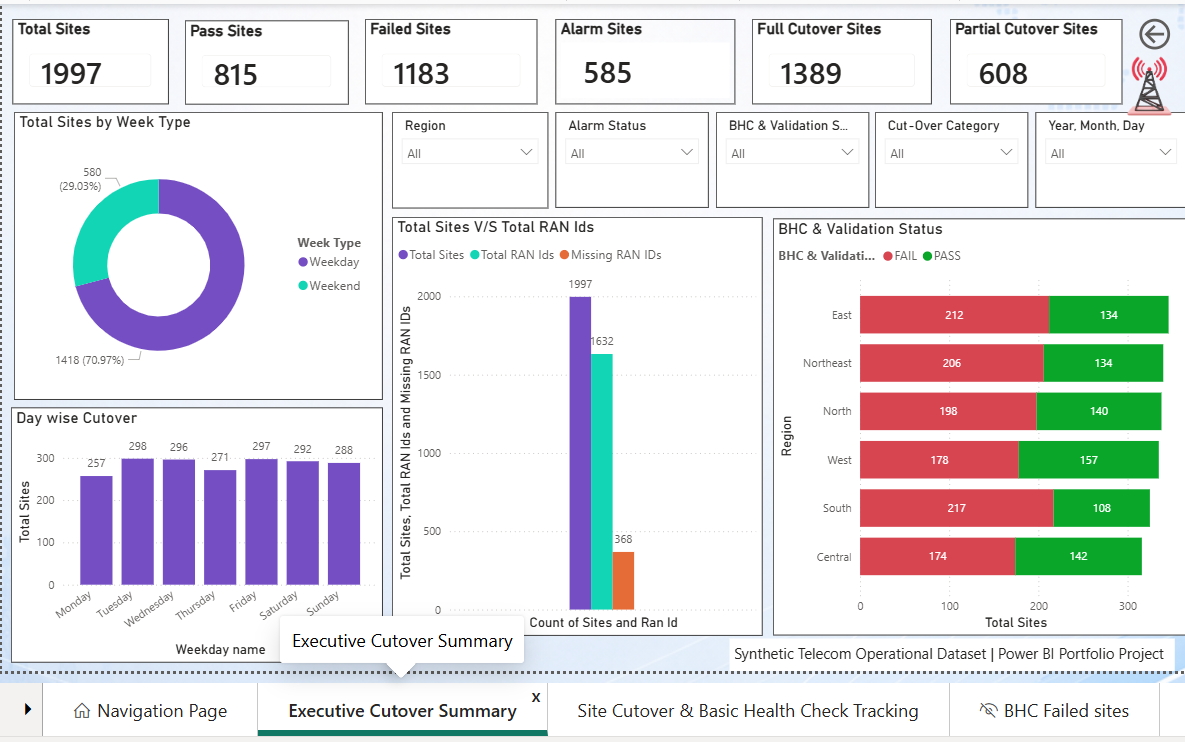

Layout of this report page (visuals, bound fields, positions):
{"tool":"powerbi","page":{"name":"Executive Cutover Summary","canvas":[1280,720],"ordinal":1},"visuals":[{"type":"cardVisual","title":"Total Sites","fields":{"Data":["All Measures.Total Sites"]},"box":[11.3,16.2,168.4,92.3],"z":0},{"type":"cardVisual","title":"Pass Sites","fields":{"Data":["All Measures.Passed sites"]},"box":[197.5,17.8,176.5,90.7],"z":1000},{"type":"cardVisual","title":"Failed Sites","fields":{"Data":["All Measures.Failed Sites"]},"box":[391.9,16.2,186.2,92.3],"z":2000},{"type":"cardVisual","title":"Alarm Sites","fields":{"Data":["All Measures.Alarms Sites"]},"box":[597.5,16.2,194.3,92.3],"z":3000},{"type":"cardVisual","title":"Full Cutover Sites","fields":{"Data":["All Measures.Full Cutover Sites"]},"box":[809.6,16.2,194.3,92.3],"z":4000},{"type":"cardVisual","title":"Partial Cutover Sites","fields":{"Data":["All Measures.Partial Cutover Sites"]},"box":[1023.4,16.2,186.2,92.3],"z":5000},{"type":"donutChart","fields":{"Category":["CP1_BHC_Data.Week Type"],"Y":["All Measures.Total Sites"]},"box":[13,116.6,398.3,310.9],"z":6000},{"type":"clusteredColumnChart","title":"Day wise Cutover","fields":{"Y":["All Measures.Total Sites"],"Category":["Week days Table.Weekday name"]},"box":[9.7,435.6,401.6,275.3],"z":7000},{"type":"clusteredColumnChart","title":"Total Sites V/S Total RAN Ids","fields":{"Y":["All Measures.Total Sites","All Measures.Total RAN Ids","All Measures.Missing RAN IDs"]},"box":[421,229.9,399.9,451.8],"z":8000},{"type":"barChart","title":"BHC & Validation Status","fields":{"Category":["Region Table.Region"],"Y":["All Measures.Total Sites"],"Series":["CP1_BHC_Data.BHC & Validation Status"]},"box":[832.3,231.5,446.9,450.1],"z":9000},{"type":"slicer","fields":{"Values":["Region Table.Region"]},"box":[421,117.3,168.5,103.8],"z":10000},{"type":"slicer","fields":{"Values":["CP1_BHC_Data.Alarm Status"]},"box":[597.3,117.2,165.2,103.6],"z":11000},{"type":"slicer","fields":{"Values":["CP1_BHC_Data.BHC & Validation Status"]},"box":[770.6,117.2,165.2,103.6],"z":12000},{"type":"slicer","fields":{"Values":["CP1_BHC_Data.Cut-Over Category"]},"box":[942.2,117.2,165.2,103.6],"z":13000},{"type":"slicer","fields":{"Values":["CP1_BHC_Data.Cutover Date.Variation.Date Hierarchy.Year","CP1_BHC_Data.Cutover Date.Variation.Date Hierarchy.Month","CP1_BHC_Data.Cutover Date.Variation.Date Hierarchy.Day"]},"box":[1115.5,117.2,163.5,103.6],"z":14000},{"type":"actionButton","box":[1222.5,0,43.7,64.8],"z":15000},{"type":"image","box":[1198.2,51.8,81,72.9],"z":16000},{"type":"textbox","box":[785.3,684.9,480.9,35.6],"z":17000}]}

Visuals, with their boxes on the page's 1280x720 design canvas (x1, y1, x2, y2). These are canvas units, not pixel positions in the 1185x742 screenshot, which may show the page scaled, cropped or inside an application window:
"Total Sites" cardVisual: {"left": 11, "top": 16, "right": 180, "bottom": 108}
"Pass Sites" cardVisual: {"left": 198, "top": 18, "right": 374, "bottom": 108}
"Failed Sites" cardVisual: {"left": 392, "top": 16, "right": 578, "bottom": 108}
"Alarm Sites" cardVisual: {"left": 598, "top": 16, "right": 792, "bottom": 108}
"Full Cutover Sites" cardVisual: {"left": 810, "top": 16, "right": 1004, "bottom": 108}
"Partial Cutover Sites" cardVisual: {"left": 1023, "top": 16, "right": 1210, "bottom": 108}
donutChart - CP1_BHC_Data.Week Type x All Measures.Total Sites: {"left": 13, "top": 117, "right": 411, "bottom": 428}
"Day wise Cutover" clusteredColumnChart: {"left": 10, "top": 436, "right": 411, "bottom": 711}
"Total Sites V/S Total RAN Ids" clusteredColumnChart: {"left": 421, "top": 230, "right": 821, "bottom": 682}
"BHC & Validation Status" barChart: {"left": 832, "top": 232, "right": 1279, "bottom": 682}
slicer - Region Table.Region: {"left": 421, "top": 117, "right": 590, "bottom": 221}
slicer - CP1_BHC_Data.Alarm Status: {"left": 597, "top": 117, "right": 762, "bottom": 221}
slicer - CP1_BHC_Data.BHC & Validation Status: {"left": 771, "top": 117, "right": 936, "bottom": 221}
slicer - CP1_BHC_Data.Cut-Over Category: {"left": 942, "top": 117, "right": 1107, "bottom": 221}
slicer - CP1_BHC_Data.Cutover Date.Variation.Date Hierarchy.Year x CP1_BHC_Data.Cutover Date.Variation.Date Hierarchy.Month: {"left": 1116, "top": 117, "right": 1279, "bottom": 221}
actionButton: {"left": 1222, "top": 0, "right": 1266, "bottom": 65}
image: {"left": 1198, "top": 52, "right": 1279, "bottom": 125}
textbox: {"left": 785, "top": 685, "right": 1266, "bottom": 720}
